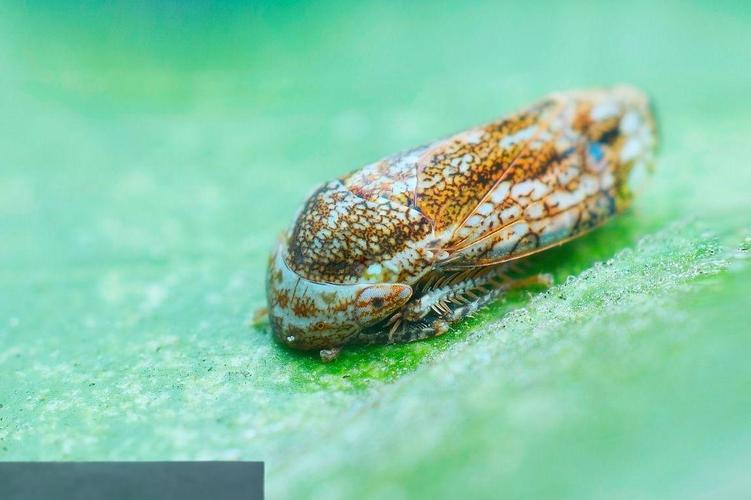Delphacidae: (251, 84, 663, 364)
